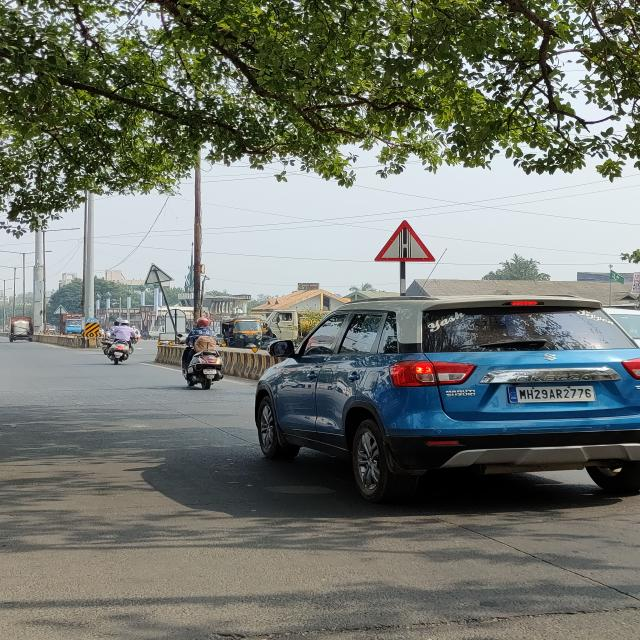ferry: (374, 221, 438, 262)
